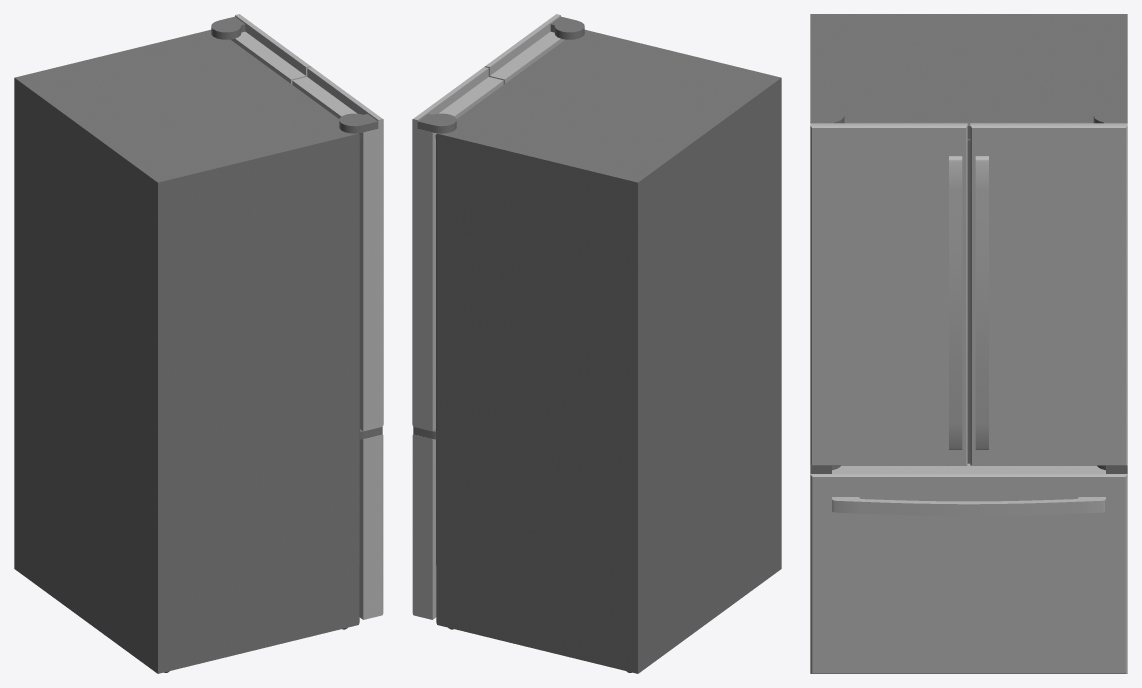
Rendered from fridge.glb.
The picture shows the model from 3 angles, left to right: view 1: azimuth 30°, elevation 25°; view 2: azimuth 150°, elevation 25°; view 3: azimuth 270°, elevation 25°; orthographic projection. The views are drawn at different scales.
Parts seen in each view (by area): view 1: Cube; view 2: Cube; view 3: Cube.
Part boxes in pixels (x1,y1,x2,y2): Cube: (14,14,383,673); Cube: (412,14,781,673); Cube: (810,14,1127,673).
Size of the model in its own units: 2.49 by 5.02 by 2.58.
1 material, 1 textured.
